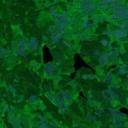alloviz: (69, 51, 96, 81), (41, 43, 53, 65), (118, 106, 128, 116), (78, 89, 86, 99)
